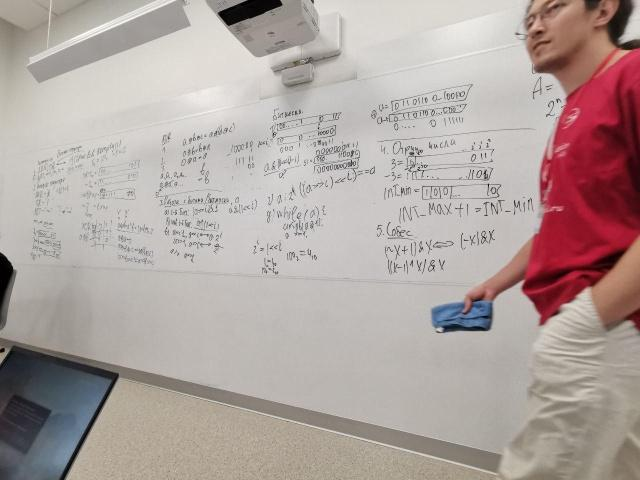Whiteboard: (25, 40, 566, 288)
